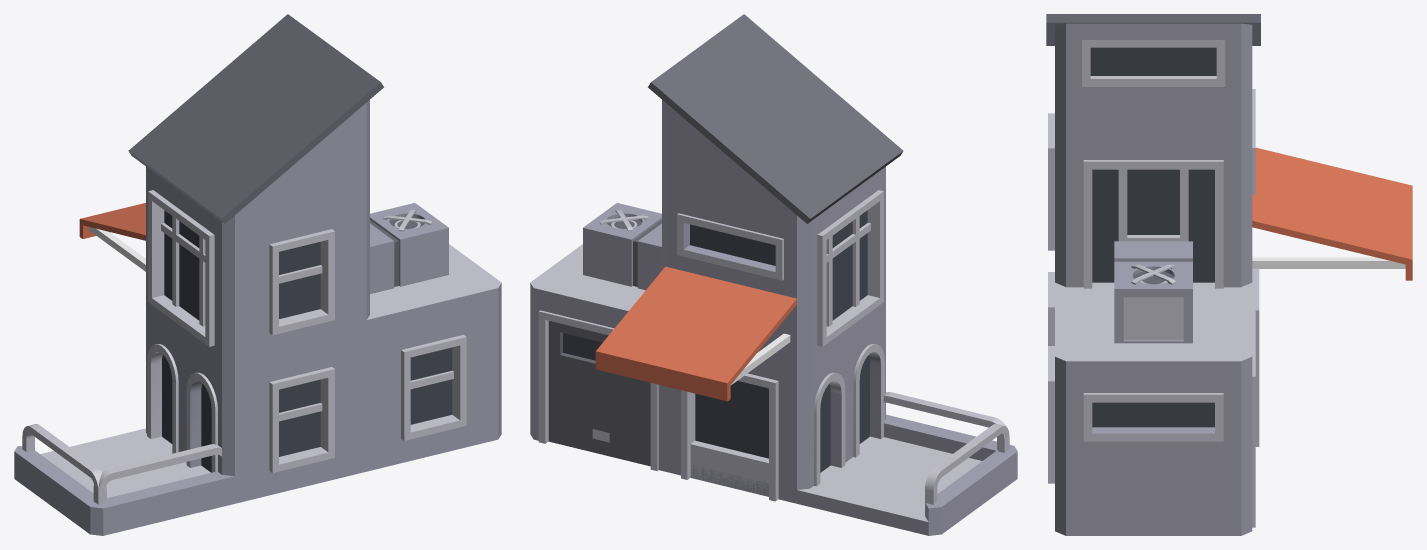
File: CityStructure.fbx
3 renders of one model, left to right at view 1: azimuth 30°, elevation 25°; view 2: azimuth 150°, elevation 25°; view 3: azimuth 270°, elevation 25°, orthographic. The views are drawn at different scales.
Visible parts, largest first — view 1: roof_factorySlant_26, wall_window_6, wall_window_22, wall_window_21, roof_corner_35, wall_windowLarge_9, wall_windowsRound%_36, detail_airLarge_25, roof_square_24, roof_square_16, awning_singleTone%_34, fence_simple%_37 (+2 smaller); view 2: roof_factorySlant_26, awning_singleTone%_34, wall_garageDoorClosed_29, wall_windowStore_32, roof_corner_35, wall_windowLarge_9, wall_windowFactory_15, wall_windowsRound%_36, detail_airLarge_25, roof_square_24, roof_square_16, roof_square_0 (+2 smaller); view 3: wall_windowFactory_30, roof_factorySlant_26, wall_skyscraperDoor%_27, awning_singleTone%_34, roof_square_24, detail_airLarge_25, roof_square_16, wall_window_22, wall_garageDoorClosed_29, wall_window_21, wall_windowFactory_15, wall_windowStore_32 (+1 smaller).
Boxes of the visible parts, x1,y1,x2,y2 form: roof_factorySlant_26: (128, 14, 383, 228); wall_window_6: (222, 334, 366, 503); wall_window_22: (366, 297, 501, 471); wall_window_21: (235, 191, 369, 365); roof_corner_35: (14, 428, 234, 535); wall_windowLarge_9: (146, 171, 234, 365); wall_windowsRound%_36: (146, 309, 221, 474); detail_airLarge_25: (370, 203, 448, 293); roof_square_24: (366, 244, 501, 333); roof_square_16: (146, 166, 369, 227); awning_singleTone%_34: (79, 203, 145, 271); fence_simple%_37: (93, 444, 221, 504); roof_factorySlant_26: (648, 14, 903, 227); awning_singleTone%_34: (595, 266, 796, 401); wall_garageDoorClosed_29: (530, 297, 665, 471); wall_windowStore_32: (665, 359, 809, 502); roof_corner_35: (797, 414, 1017, 535); wall_windowLarge_9: (797, 171, 885, 365); wall_windowFactory_15: (662, 191, 796, 365); wall_windowsRound%_36: (810, 309, 885, 488); detail_airLarge_25: (583, 203, 661, 290); roof_square_24: (530, 244, 645, 322); roof_square_16: (662, 167, 885, 228); roof_square_0: (665, 436, 876, 503); wall_windowFactory_30: (1066, 377, 1241, 535); roof_factorySlant_26: (1046, 14, 1260, 144); wall_skyscraperDoor%_27: (1066, 144, 1241, 288); awning_singleTone%_34: (1252, 147, 1412, 280); roof_square_24: (1055, 282, 1252, 376); detail_airLarge_25: (1114, 241, 1192, 343); roof_square_16: (1055, 124, 1252, 144); wall_window_22: (1048, 346, 1065, 535); wall_garageDoorClosed_29: (1241, 310, 1255, 535); wall_window_21: (1048, 113, 1065, 286); wall_windowFactory_15: (1241, 89, 1255, 286); wall_windowStore_32: (1252, 269, 1259, 446).
Bounding box in the file's own units: 31.45 × 28.28 × 20.9.
